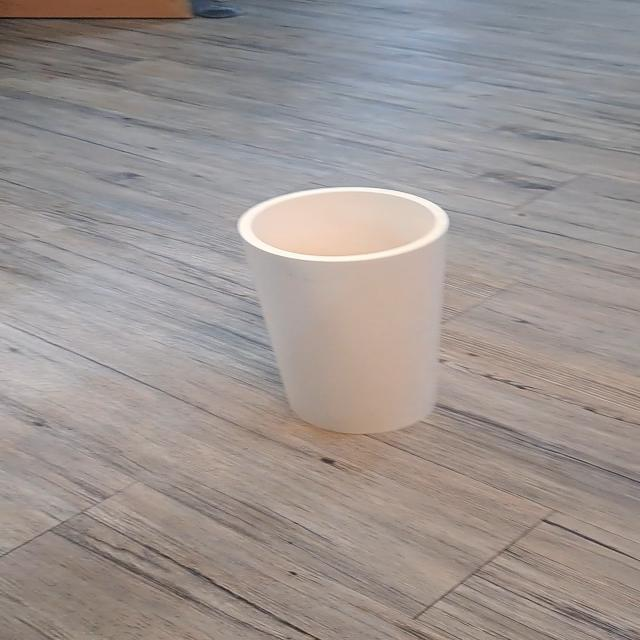CORAL: (196, 167, 521, 461)
